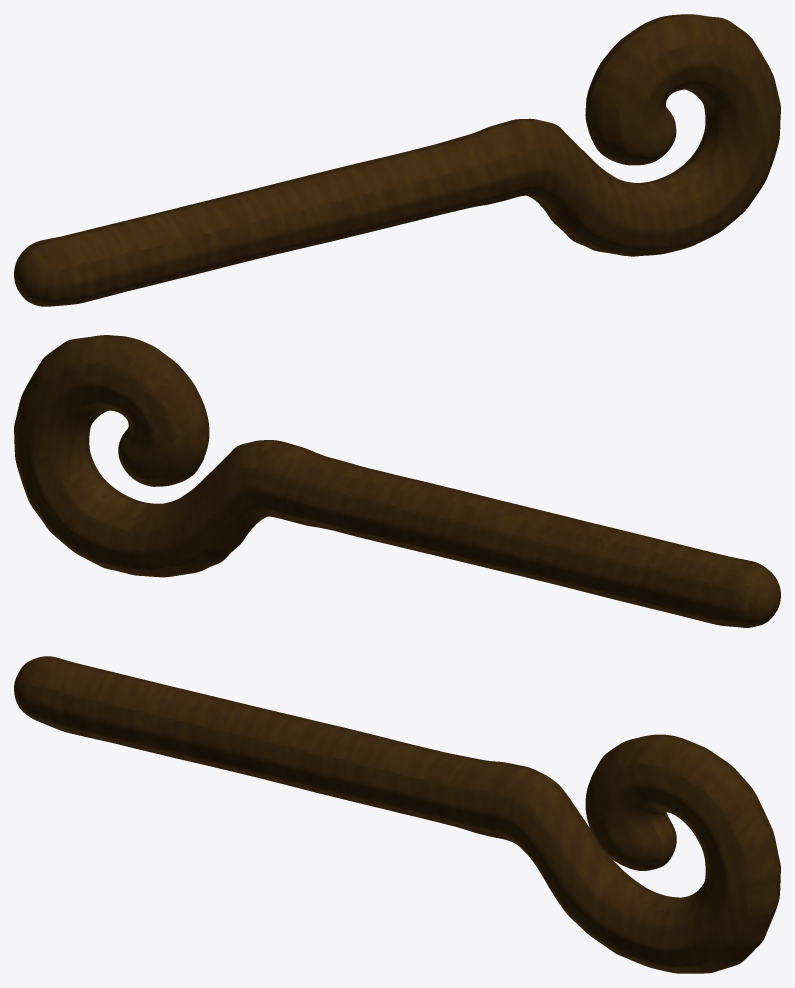
The model's file is item_staff_wood.glb.
The picture shows the model from 3 angles, top to bottom: view 1: azimuth 30°, elevation 25°; view 2: azimuth 150°, elevation 25°; view 3: azimuth 330°, elevation 25°; orthographic projection.
Parts seen in each view (by area): view 1: tmp0rtjtuki.ply; view 2: tmp0rtjtuki.ply; view 3: tmp0rtjtuki.ply.
Boxes of the visible parts, x1,y1,x2,y2 form: tmp0rtjtuki.ply: (14, 14, 780, 306); tmp0rtjtuki.ply: (14, 335, 780, 627); tmp0rtjtuki.ply: (14, 656, 780, 973).
Size of the model in its own units: 3.93 by 1.15 by 0.3174.
1 material, 1 textured.
